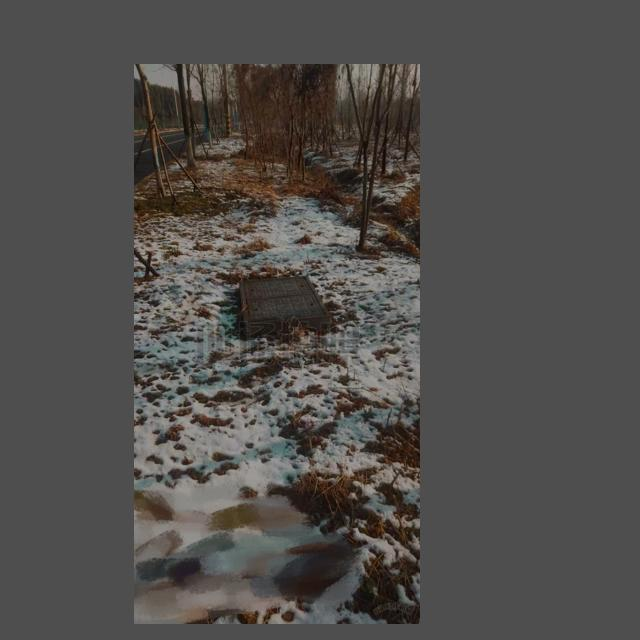circle: (235, 275, 337, 343)
